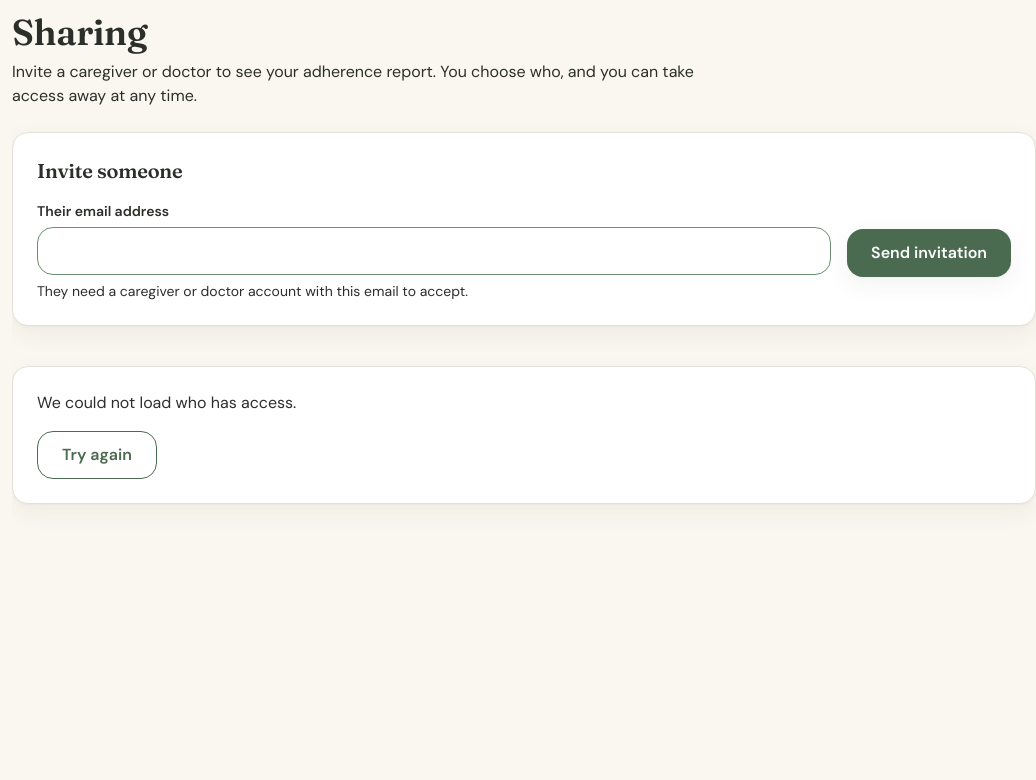
Test: SharingPage: who has access › shows a loading state, and an error with retry
This screenshot has width=1036, height=780.
Later steps or results of the test are not shown.
Check: the field labelled "Their email address" is shown, box left=37, top=227, right=831, bottom=275
Check: the text "We could not load who has access." is shown, box left=37, top=392, right=296, bottom=413
Step 1. Click the button "Try again" → (97, 455), box left=37, top=431, right=157, bottom=479
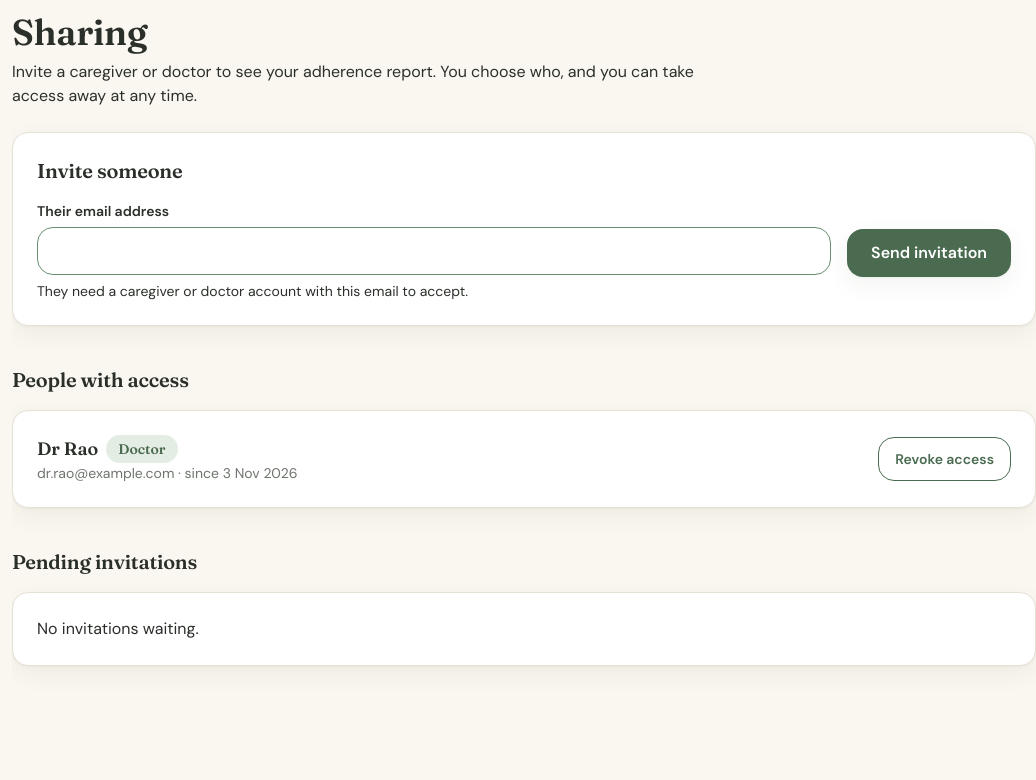
Check: the text "Dr Rao" is shown, box left=37, top=437, right=98, bottom=460
